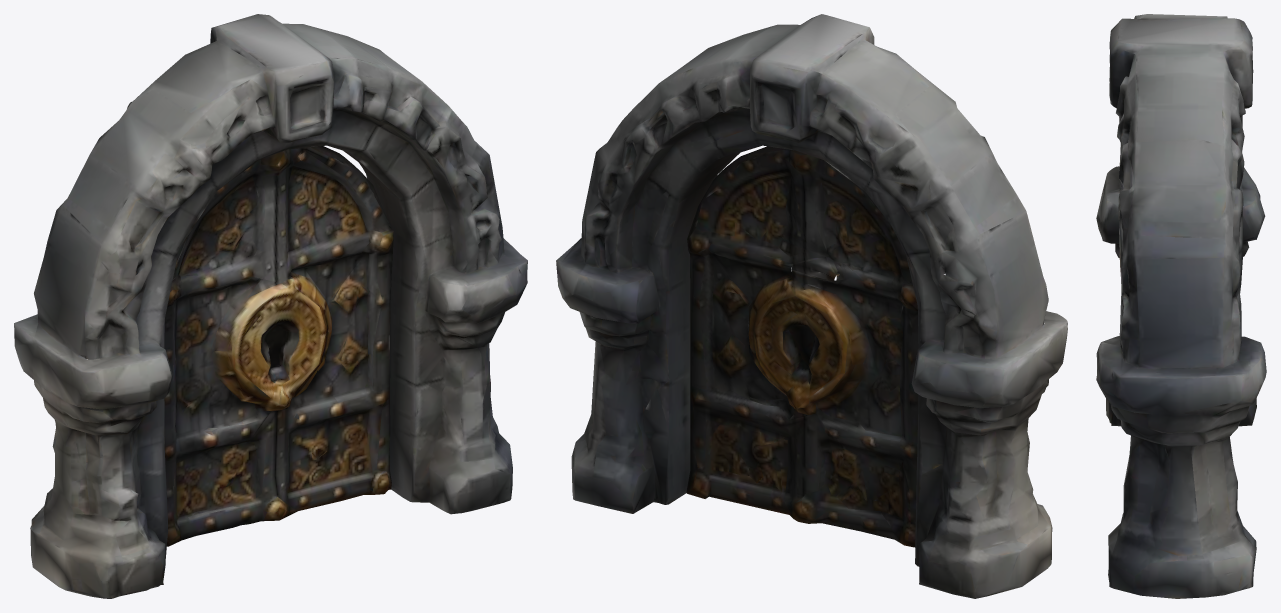
File: gdoor.glb
3 renders of one model, left to right at view 1: azimuth 30°, elevation 25°; view 2: azimuth 150°, elevation 25°; view 3: azimuth 270°, elevation 25°, orthographic. The views are drawn at different scales.
Parts seen in each view (by area): view 1: tripo_node_ba9a953e; view 2: tripo_node_ba9a953e; view 3: tripo_node_ba9a953e.
Part boxes in pixels (x1,y1,x2,y2): tripo_node_ba9a953e: (14, 14, 527, 598); tripo_node_ba9a953e: (556, 14, 1067, 598); tripo_node_ba9a953e: (1096, 14, 1266, 598).
Bounding box in the file's own units: 99.12 × 99.86 × 33.25.
1 material, 1 textured.
